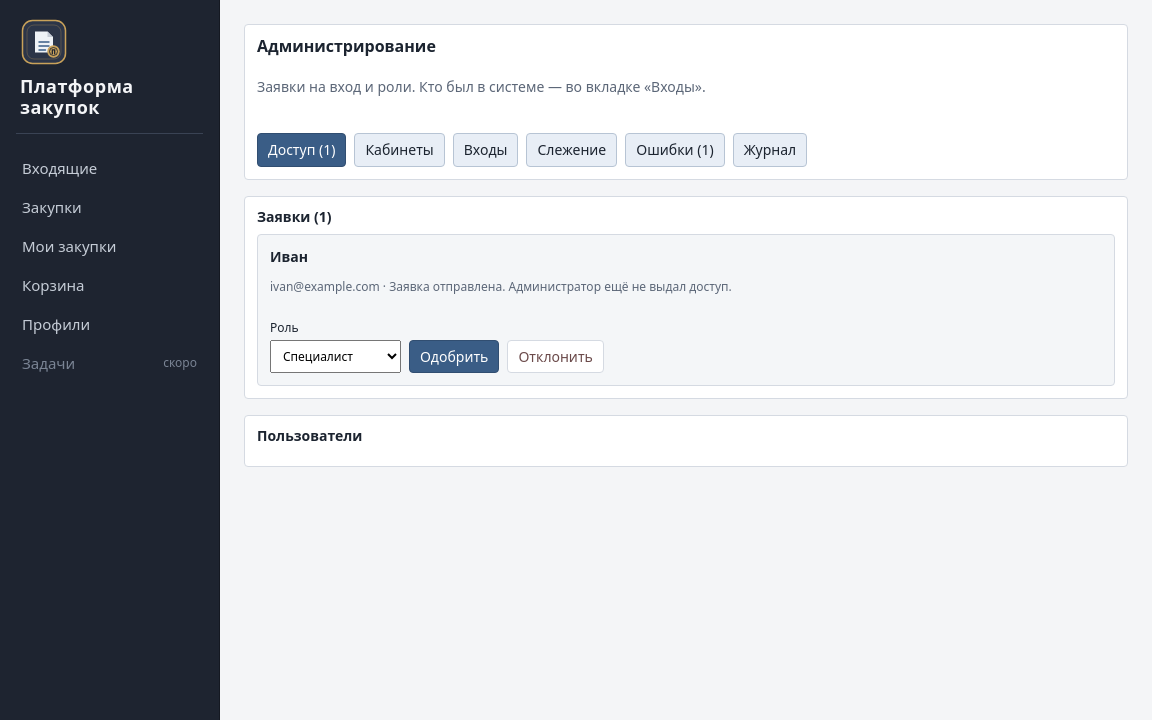
Test: AdminApp › opens watch without mixing it with access requests
Expected: the text "Иван" is shown, [270,247,308,266]
What coordinates should you click on to do the following:
click the link "Слежение"
I would click on:
 (572, 150)
Its box is [526,133,617,167].
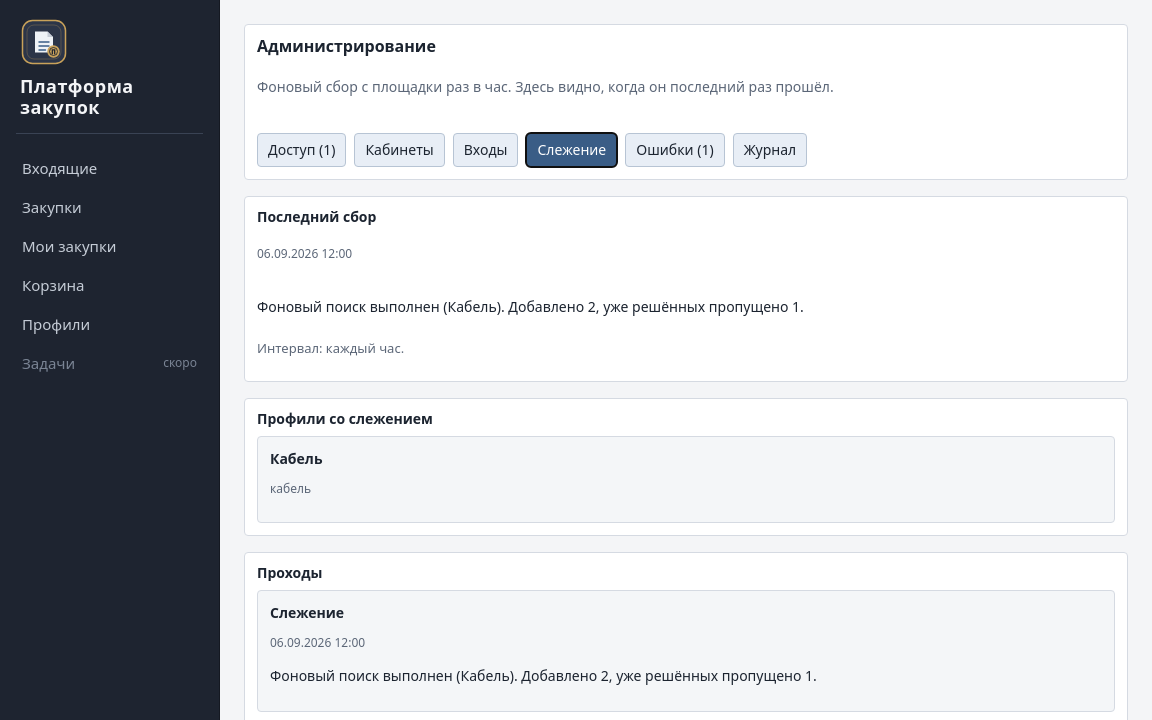
Result: the text "Кабель" is shown at [270,449,322,468]
Result: the text "Иван" is gone
Result: the button "Одобрить" is gone
